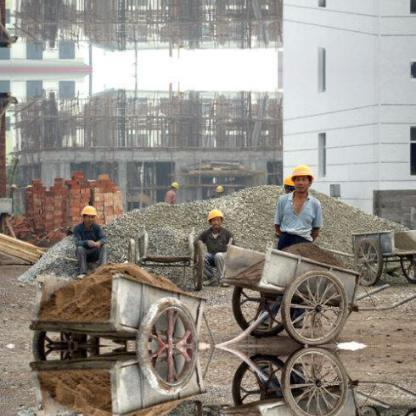helmet: (287, 158, 318, 184), (204, 203, 230, 225), (79, 202, 101, 220), (280, 173, 297, 189), (213, 183, 226, 194), (170, 180, 181, 191)
